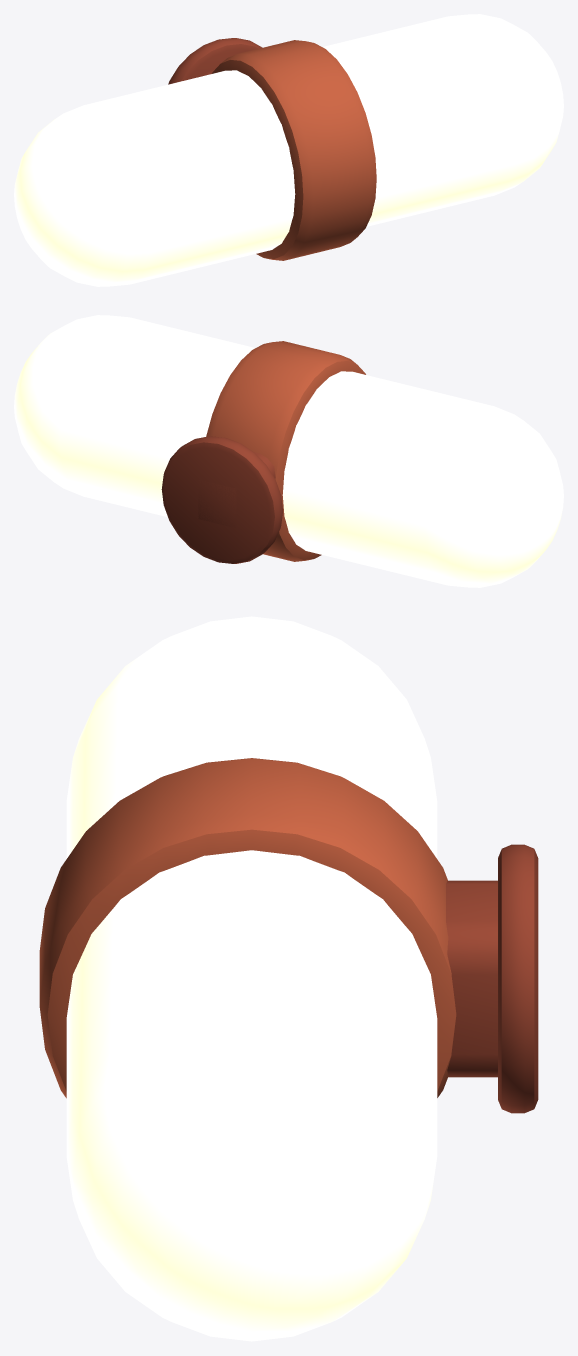
File: arandela_tubo.glb
The picture shows the model from 3 angles, top to bottom: view 1: azimuth 30°, elevation 25°; view 2: azimuth 150°, elevation 25°; view 3: azimuth 270°, elevation 25°; orthographic projection. The views are drawn at different scales.
Visible parts, largest first — view 1: arandela_tubo; view 2: arandela_tubo; view 3: arandela_tubo.
Part boxes in pixels (x1=…): arandela_tubo: x1=14, y1=14, x2=563, y2=286; arandela_tubo: x1=14, y1=315, x2=563, y2=587; arandela_tubo: x1=39, y1=616, x2=538, y2=1341.
Bounding box in the file's own units: 0.36 × 0.126 × 0.148.
Materials: 2 (1 with a texture image).
